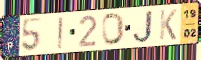2: (78, 14, 98, 49)
5: (20, 16, 44, 53)
I: (57, 16, 65, 51)
J: (132, 9, 154, 45)
K: (158, 8, 178, 41)
O: (101, 11, 126, 47)
